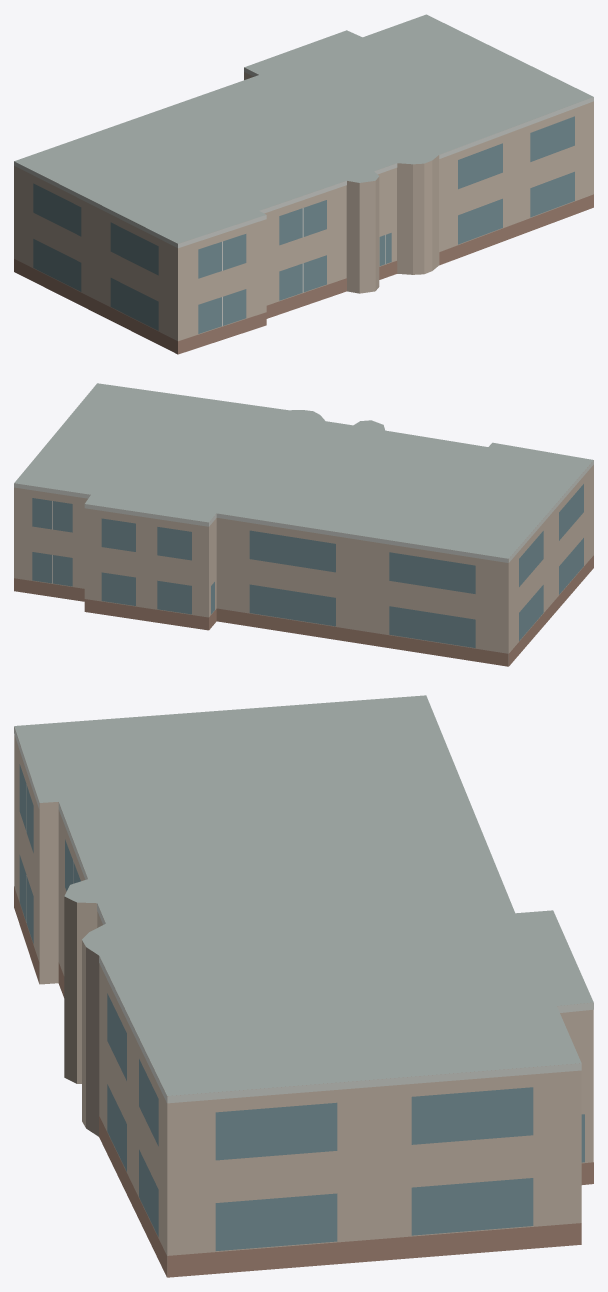
Rendered from survey-upis-32467679.glb.
3 views of the same model, one above another, from view 1: azimuth 30°, elevation 25°; view 2: azimuth 150°, elevation 25°; view 3: azimuth 270°, elevation 25° (orthographic). The views are drawn at different scales.
Parts seen in each view (by area): view 1: survey-upis-32467679.tmp; view 2: survey-upis-32467679.tmp; view 3: survey-upis-32467679.tmp.
Part boxes in pixels (<box>): survey-upis-32467679.tmp: <box>14,14,593,354</box>; survey-upis-32467679.tmp: <box>14,383,593,666</box>; survey-upis-32467679.tmp: <box>14,695,593,1277</box>.
Size of the model in its own units: 28.91 by 6.1 by 17.67.
